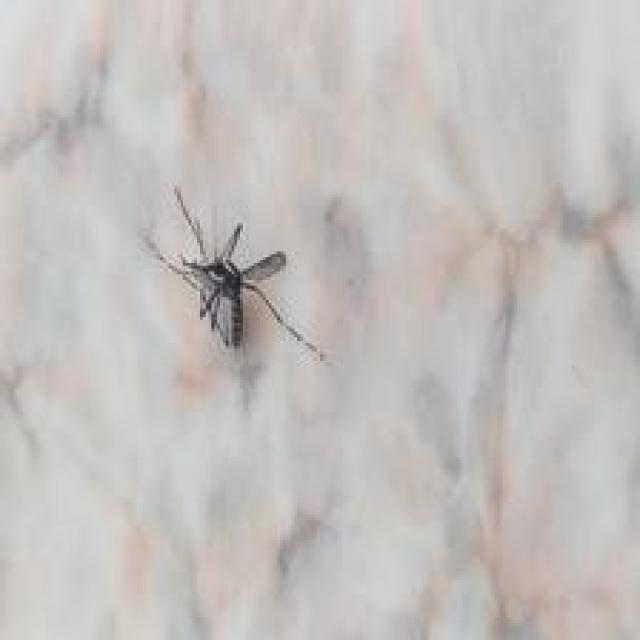Aedes albopictus: (140, 183, 329, 366)
